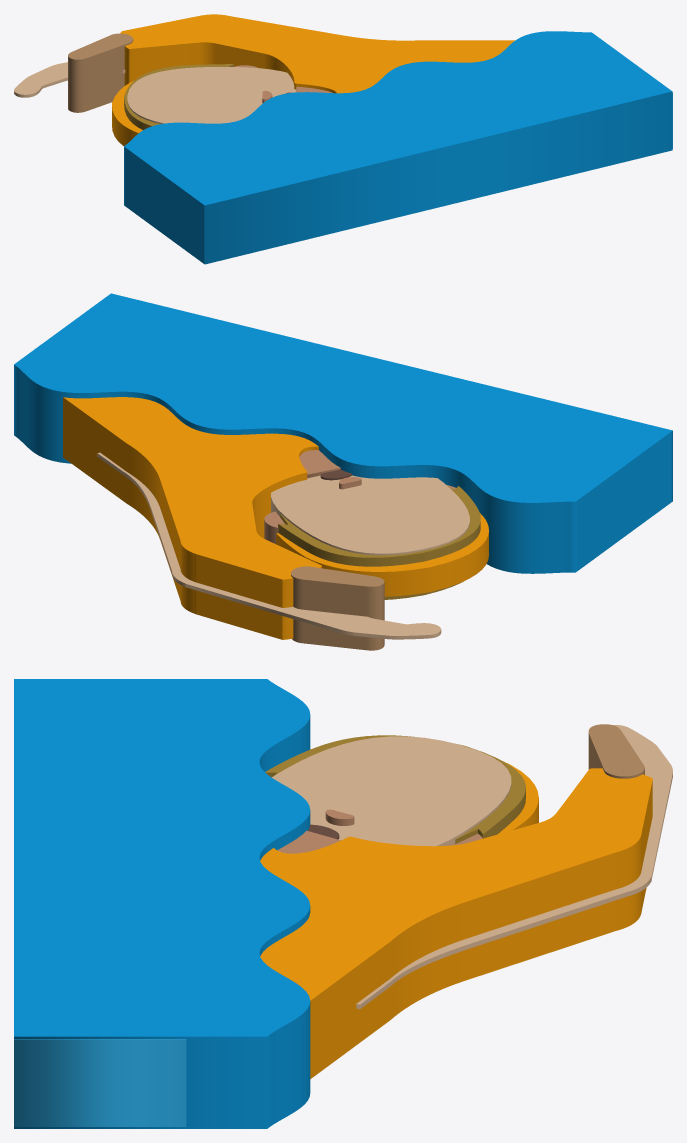
Rendered from emoji_u1f3ca_1f3fc.glb.
The picture shows the model from 3 angles, top to bottom: view 1: azimuth 30°, elevation 25°; view 2: azimuth 150°, elevation 25°; view 3: azimuth 270°, elevation 25°; orthographic projection. The views are drawn at different scales.
Visible parts, largest first — view 1: emoji_u1f3ca_1f3fc; view 2: emoji_u1f3ca_1f3fc; view 3: emoji_u1f3ca_1f3fc.
Boxes of the visible parts, box(x1,y1,x2,y2) form: emoji_u1f3ca_1f3fc: box(14, 14, 672, 264); emoji_u1f3ca_1f3fc: box(14, 293, 672, 650); emoji_u1f3ca_1f3fc: box(14, 679, 672, 1128).
Bounding box in the file's own units: 0.0332 × 0.004 × 0.0258.
